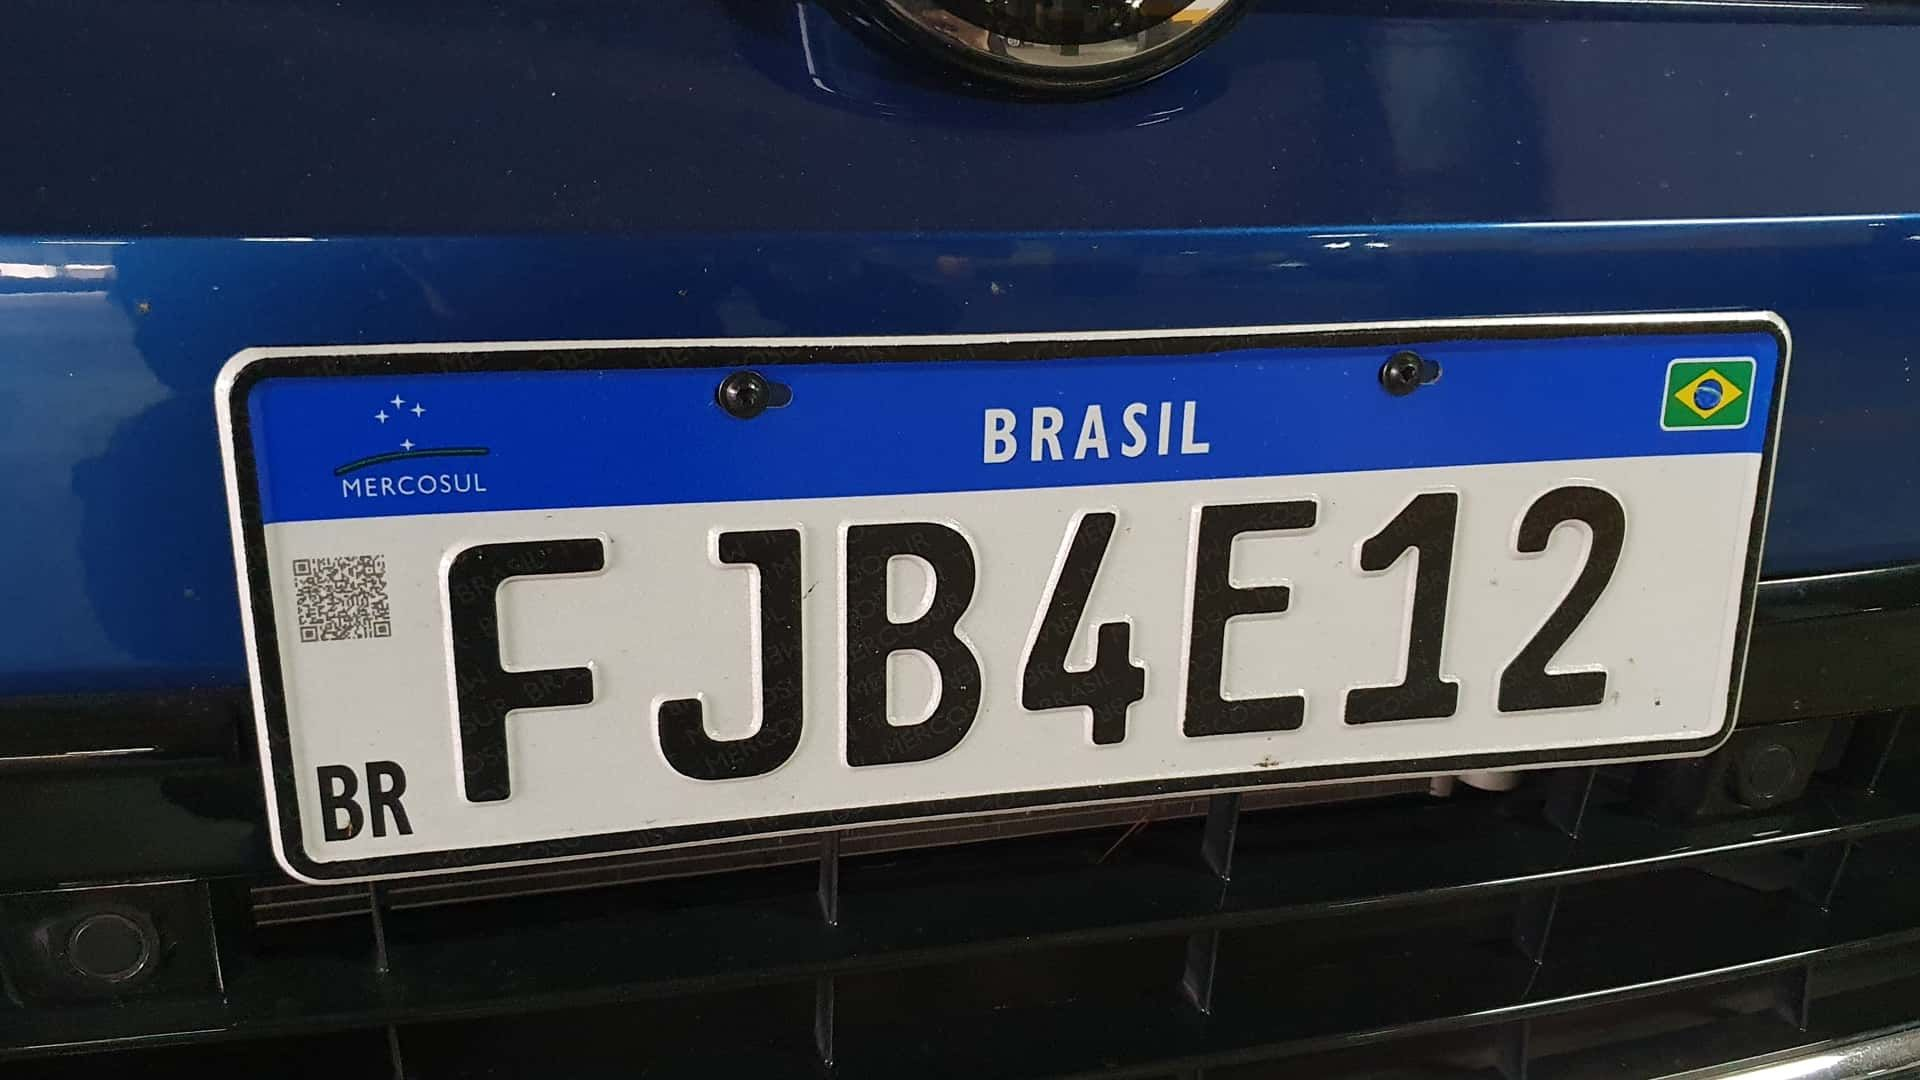car_plate: (212, 330, 1791, 888)
